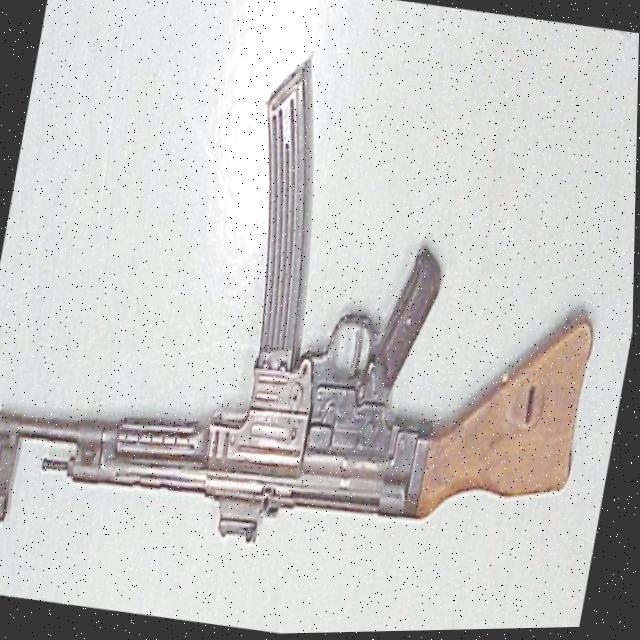firearm: (0, 13, 640, 613)
